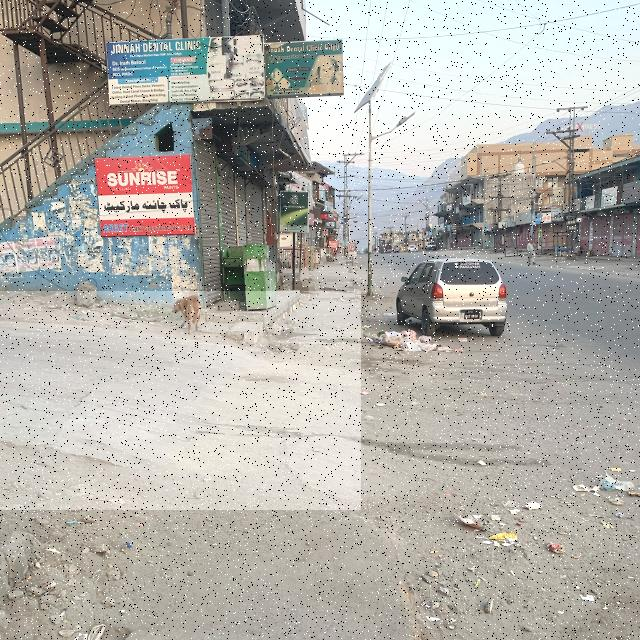left: (0, 291, 361, 510)
